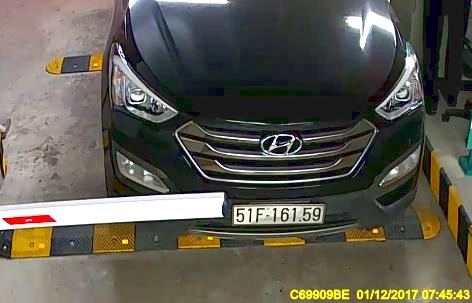plate: (228, 196, 327, 229)
